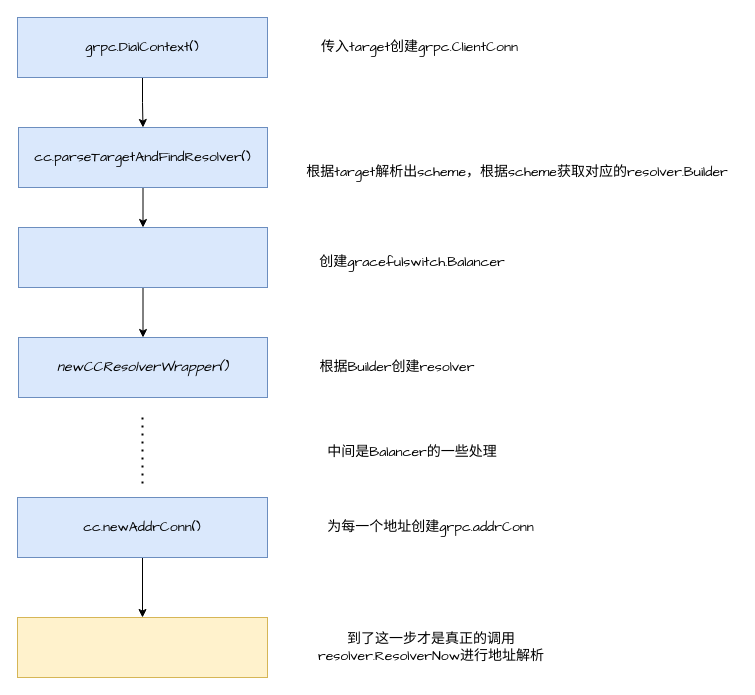
This 755x695 diagram has some shape labels left out. Here are the shapes that lost their labels. From the top down, the centre of each, then its label:
At point (143, 257): "newCCBalancerWrapper()".
At point (142, 647): "addrConn.createTranport()".
